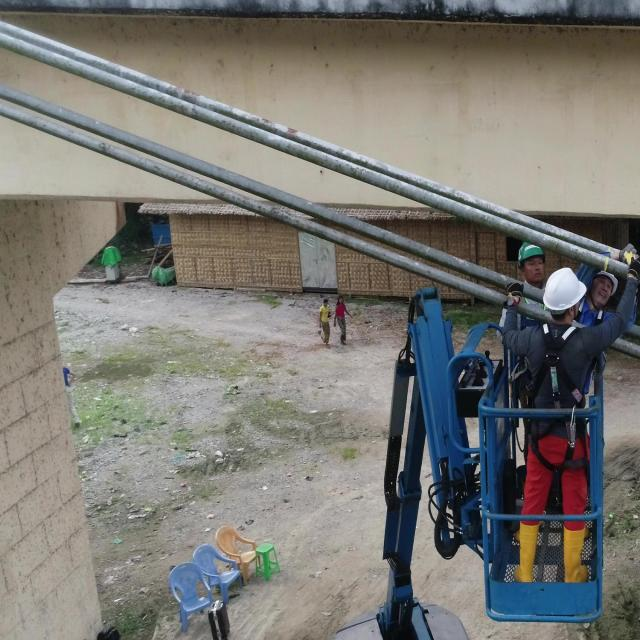corrosion: (184, 89, 197, 105), (288, 128, 298, 139), (169, 86, 181, 95), (263, 119, 272, 126)
